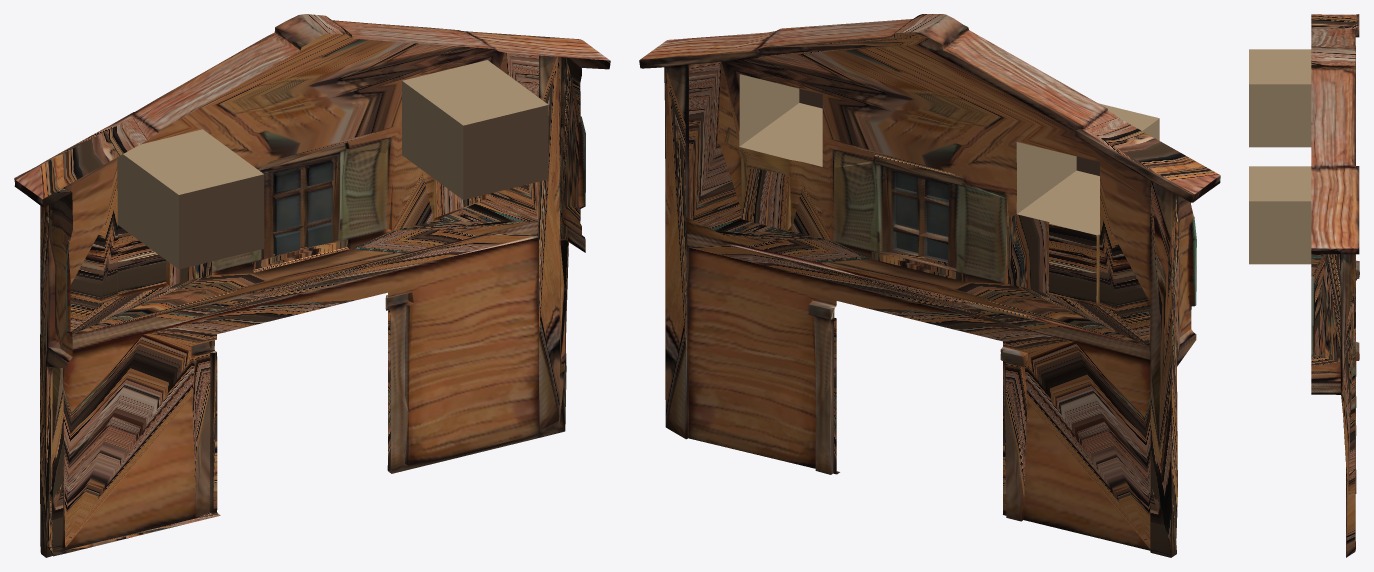
The model's file is saloon_facade_n.glb.
The picture shows the model from 3 angles, left to right: view 1: azimuth 30°, elevation 25°; view 2: azimuth 150°, elevation 25°; view 3: azimuth 270°, elevation 25°; orthographic projection. The views are drawn at different scales.
Visible parts, largest first — view 1: wl_saloon_long; view 2: wl_saloon_long; view 3: wl_saloon_long.
Boxes of the visible parts, x1=… form: wl_saloon_long: x1=14, y1=14, x2=610, y2=557; wl_saloon_long: x1=639, y1=14, x2=1220, y2=557; wl_saloon_long: x1=1249, y1=14, x2=1359, y2=557.
Bounding box in the file's own units: 8 × 6.4 × 1.6.
Materials: 2 (1 with a texture image).
